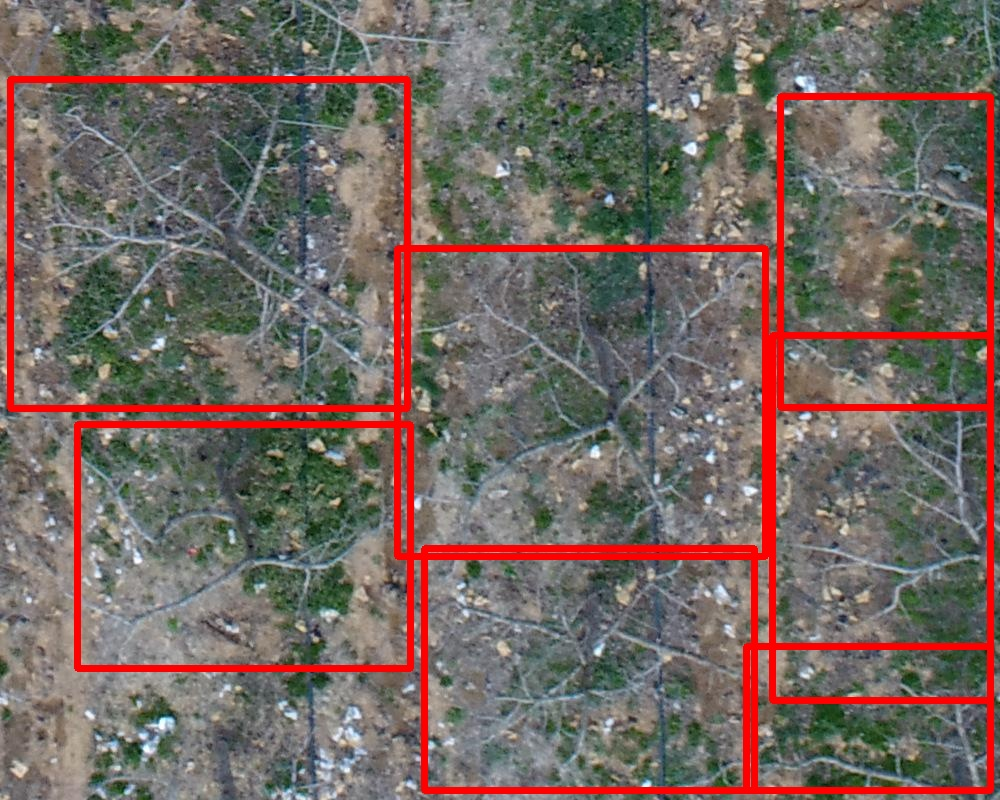apple: (10, 79, 407, 408), (397, 248, 765, 556), (77, 424, 410, 668), (424, 548, 754, 790), (772, 335, 990, 700), (780, 96, 990, 407), (746, 646, 990, 790)
